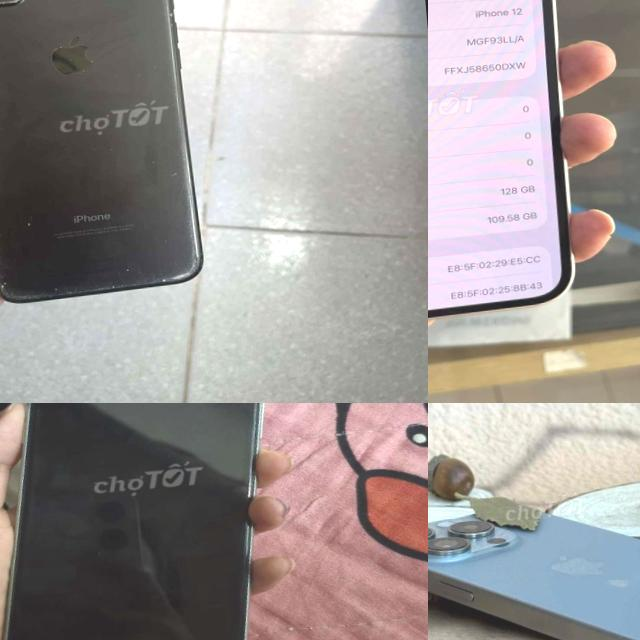scratch: (25, 274, 185, 296), (37, 30, 100, 80), (175, 184, 202, 258), (148, 143, 192, 183), (0, 270, 23, 302), (155, 0, 176, 29), (179, 260, 201, 274), (121, 260, 133, 272), (20, 218, 33, 228), (157, 234, 169, 244)
